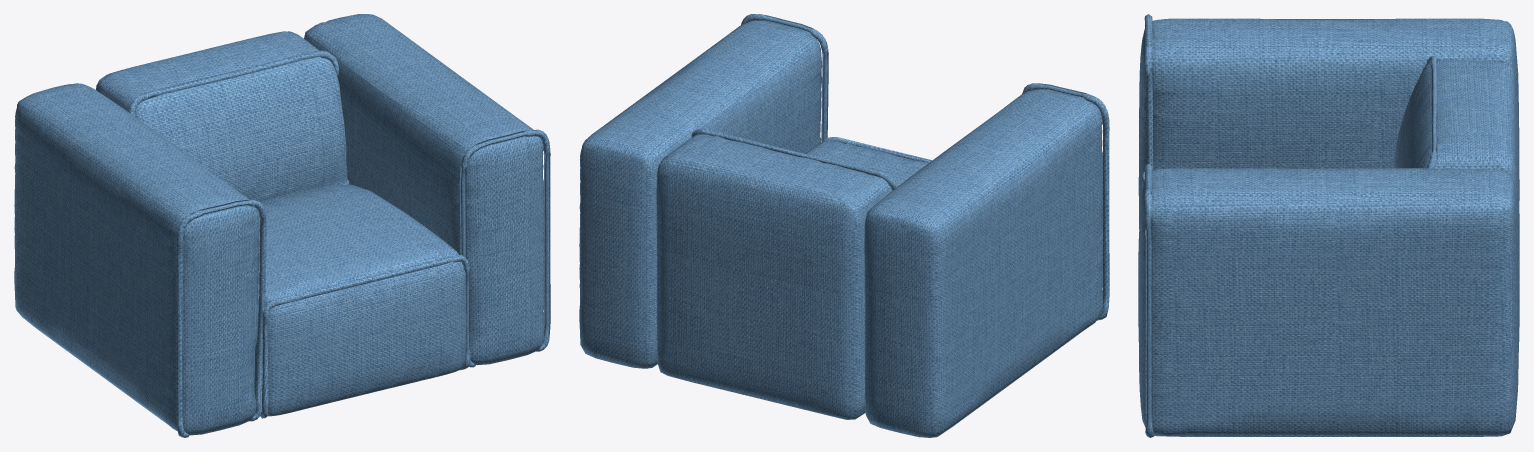
File: udlSofa.glb
3 renders of one model, left to right at view 1: azimuth 30°, elevation 25°; view 2: azimuth 150°, elevation 25°; view 3: azimuth 270°, elevation 25°, orthographic. The views are drawn at different scales.
Visible parts, largest first — view 1: seat2; view 2: seat2; view 3: seat2.
Part boxes in pixels (x1,y1,x2,y2): seat2: [14, 14, 550, 437]; seat2: [579, 14, 1109, 437]; seat2: [1138, 14, 1519, 437].
Bounding box in the file's own units: 1.18 × 0.689 × 0.973.
1 material, 1 textured.
